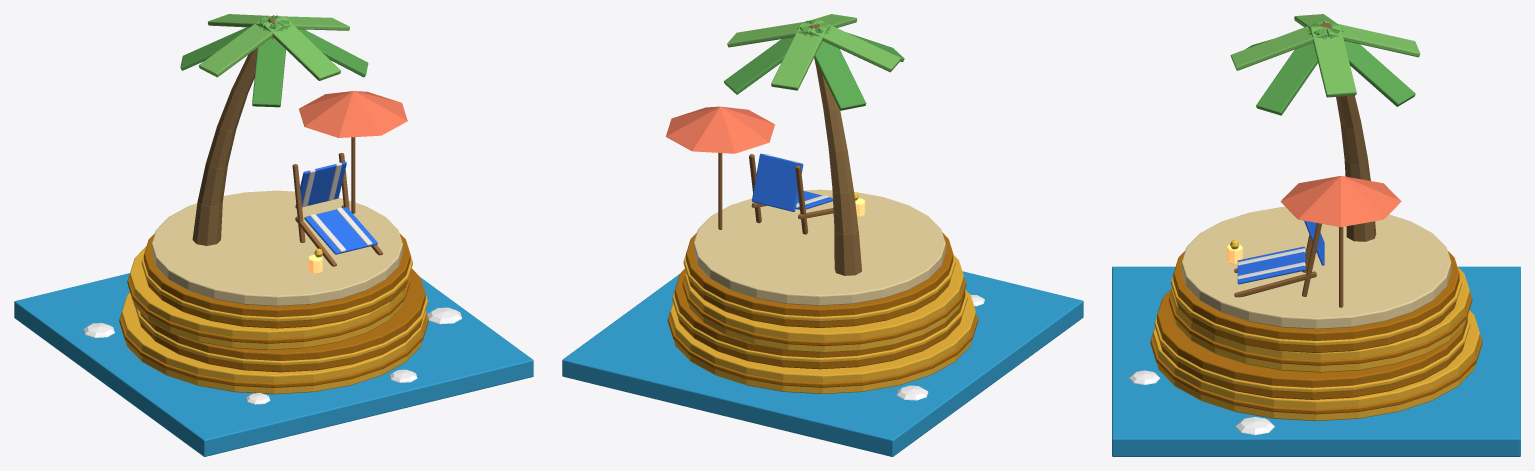
The model's file is pension.glb.
3 renders of one model, left to right at view 1: azimuth 30°, elevation 25°; view 2: azimuth 150°, elevation 25°; view 3: azimuth 270°, elevation 25°, orthographic. The views are drawn at different scales.
Visible parts, largest first — view 1: Pension; view 2: Pension; view 3: Pension.
Part boxes in pixels (x1=…): Pension: x1=14, y1=14, x2=533, y2=456; Pension: x1=562, y1=14, x2=1083, y2=456; Pension: x1=1112, y1=14, x2=1520, y2=456.
Size of the model in its own units: 2 by 1.88 by 2.
